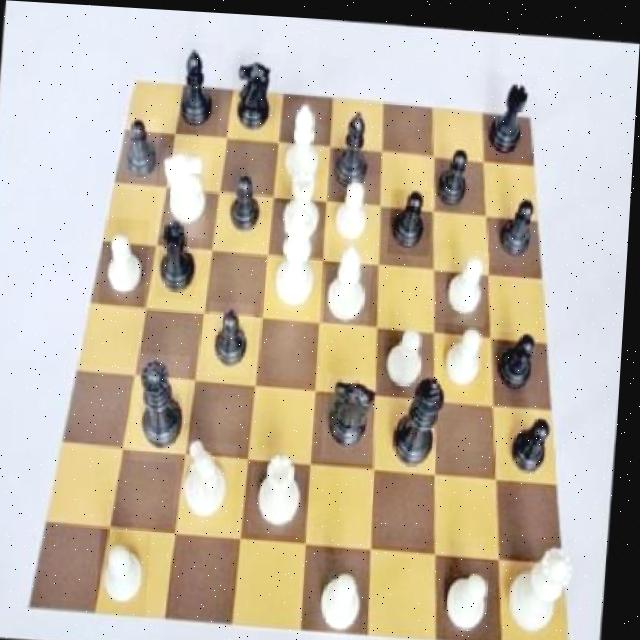bishop: (328, 99, 385, 201), (173, 39, 225, 139)
black-bishop: (392, 365, 455, 473)
black-king: (326, 370, 383, 459), (230, 48, 280, 139)
black-knight: (491, 182, 548, 261), (223, 157, 271, 242), (514, 396, 562, 478), (209, 298, 259, 373), (119, 113, 163, 185), (389, 183, 435, 251), (497, 324, 544, 387), (430, 137, 474, 204)
black-pawn: (136, 351, 195, 461)
black-queen: (481, 66, 538, 159), (159, 213, 203, 297)
black-rook: (278, 95, 329, 193), (323, 236, 376, 324)
white-bishop: (272, 199, 328, 309)
white-king: (177, 437, 243, 530), (157, 145, 214, 236)
white-knight: (448, 536, 502, 638), (322, 549, 379, 640), (102, 528, 157, 620), (325, 165, 383, 250), (103, 216, 153, 309), (440, 242, 493, 320), (446, 315, 494, 398), (388, 313, 439, 391)
white-pawn: (509, 530, 587, 638)
white-queen: (253, 443, 313, 533), (277, 161, 327, 243)
